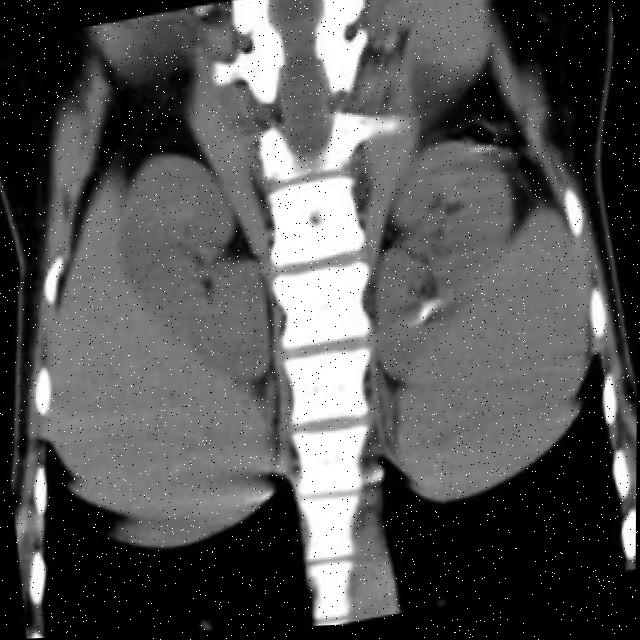Tas_Var: (418, 308, 433, 329)
